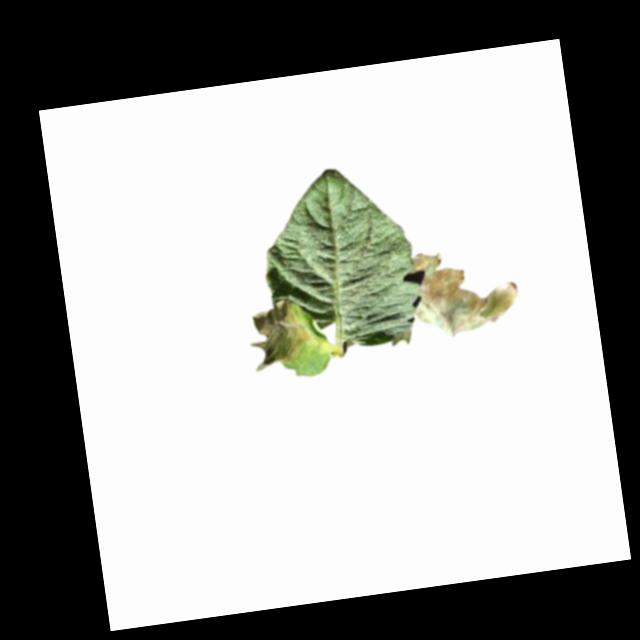Late_blight: (406, 240, 523, 343), (246, 297, 314, 372)
